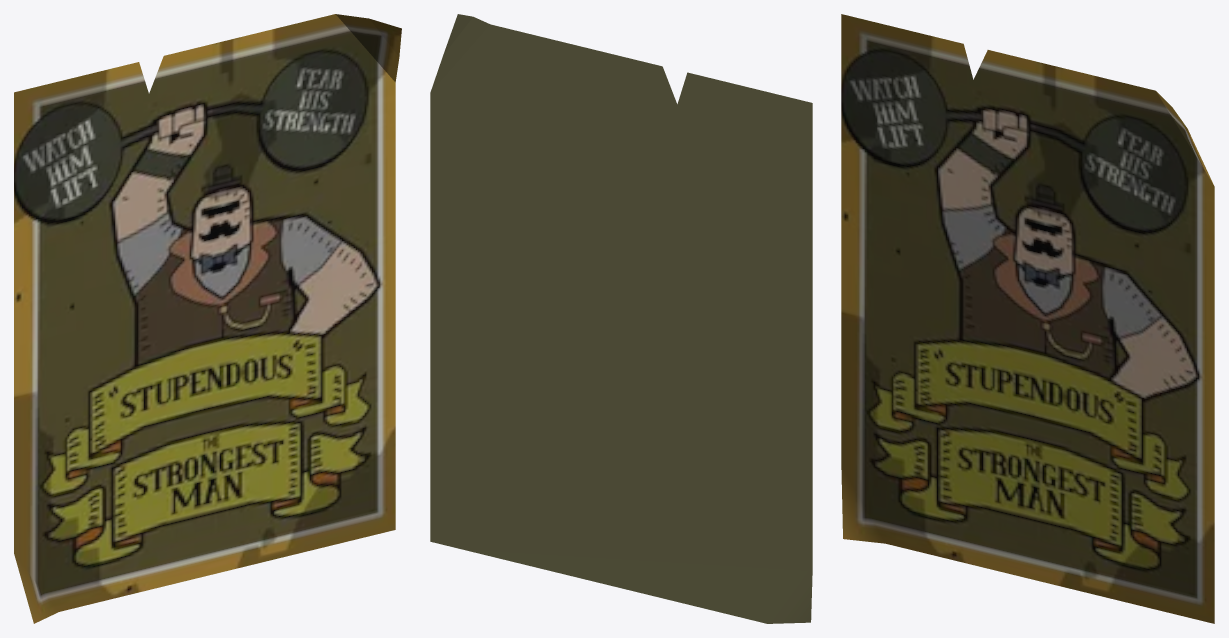
Rendered from SM_Prop_Sign_Show_04_Alt.glb.
3 renders of one model, left to right at view 1: azimuth 30°, elevation 25°; view 2: azimuth 150°, elevation 25°; view 3: azimuth 330°, elevation 25°, orthographic. The views are drawn at different scales.
Parts seen in each view (by area): view 1: SM_Prop_Sign_Show_04_Alt; view 2: SM_Prop_Sign_Show_04_Alt; view 3: SM_Prop_Sign_Show_04_Alt.
Part boxes in pixels (left/top/right/bottom): SM_Prop_Sign_Show_04_Alt: left=14, top=14, right=401, bottom=623; SM_Prop_Sign_Show_04_Alt: left=430, top=14, right=812, bottom=623; SM_Prop_Sign_Show_04_Alt: left=841, top=14, right=1214, bottom=623.
Size of the model in its own units: 52.27 by 69.45 by 4.03.
1 material, 1 textured.
